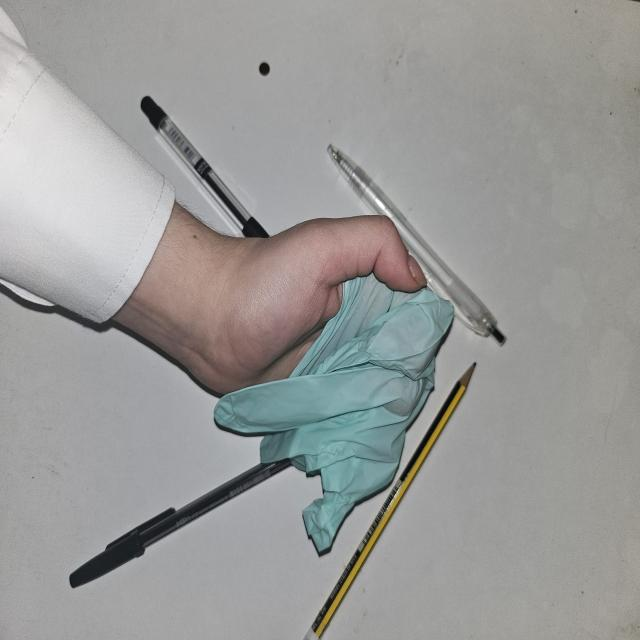glove_partial: (193, 216, 454, 556)
